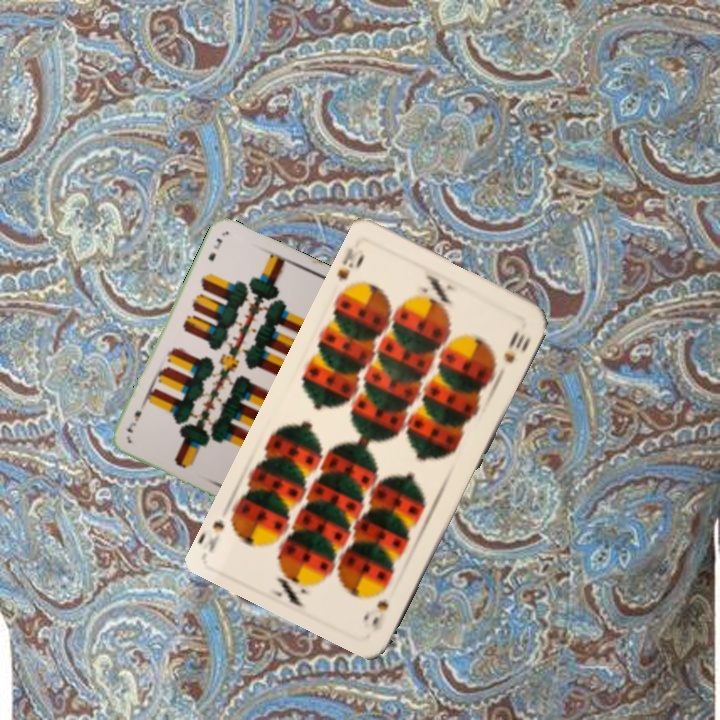E7: (204, 234, 225, 263)
S10: (332, 243, 368, 283), (368, 594, 392, 635)
